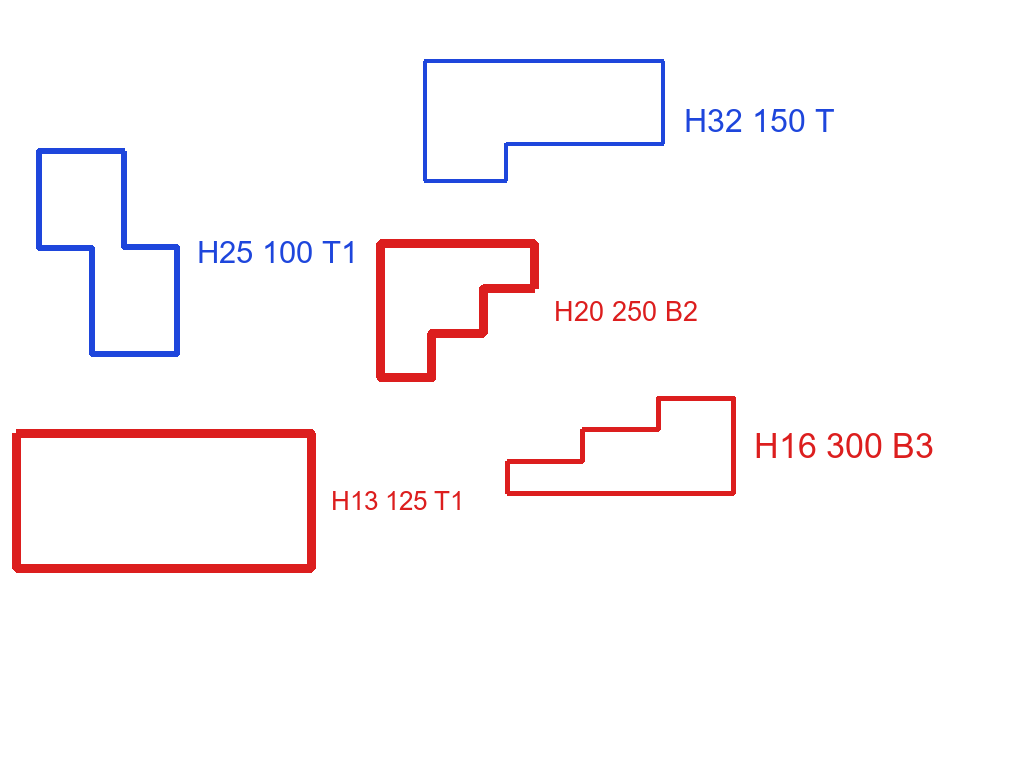shape: (10, 427, 318, 575), (33, 146, 182, 358), (421, 58, 668, 184), (374, 237, 541, 384), (503, 394, 738, 498)
text: (752, 431, 936, 460), (195, 239, 360, 265), (682, 107, 837, 134), (552, 299, 700, 323), (329, 489, 466, 512)
